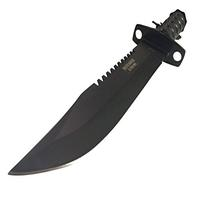knife: (6, 13, 188, 180)
